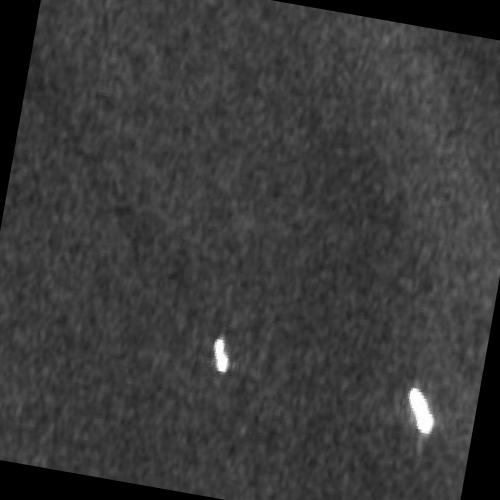ship: (407, 385, 434, 436), (212, 336, 228, 373)
